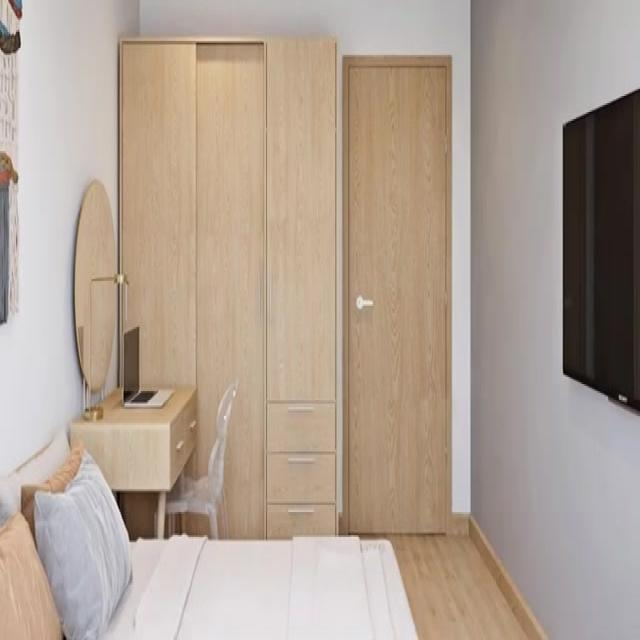door: (343, 55, 450, 535)
obstacle: (118, 34, 337, 538), (0, 427, 419, 638), (68, 382, 197, 537), (154, 375, 238, 539)
